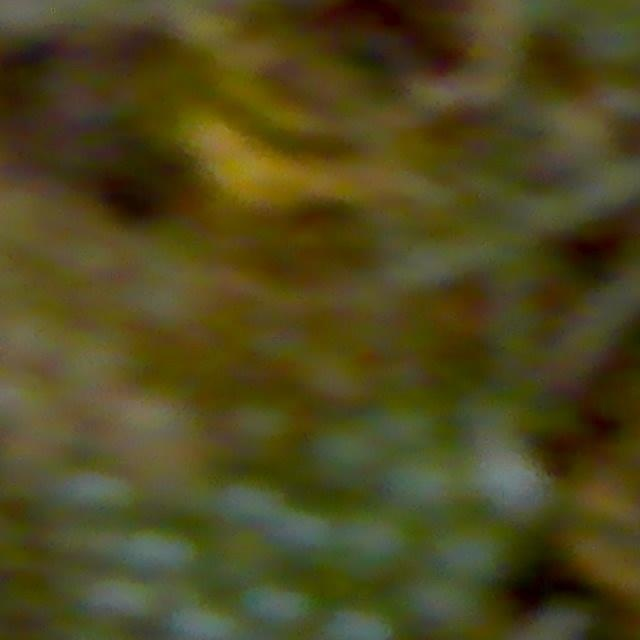SeaGrape: (383, 441, 468, 520), (481, 447, 562, 527), (336, 502, 415, 583), (307, 413, 386, 492), (403, 570, 487, 640), (435, 515, 513, 587), (241, 573, 318, 639)
